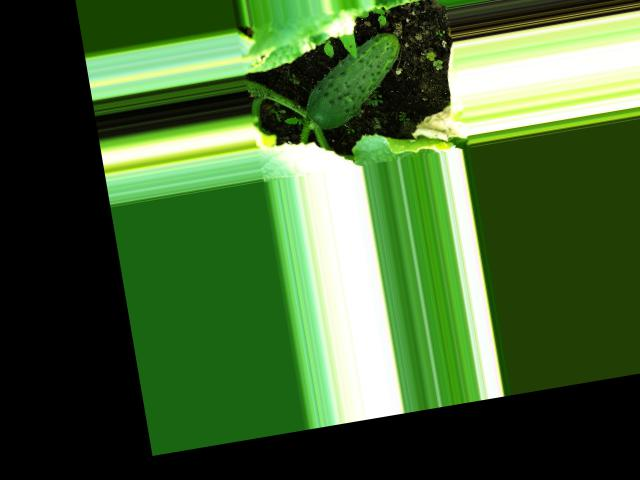cucumber: (294, 30, 411, 133)
